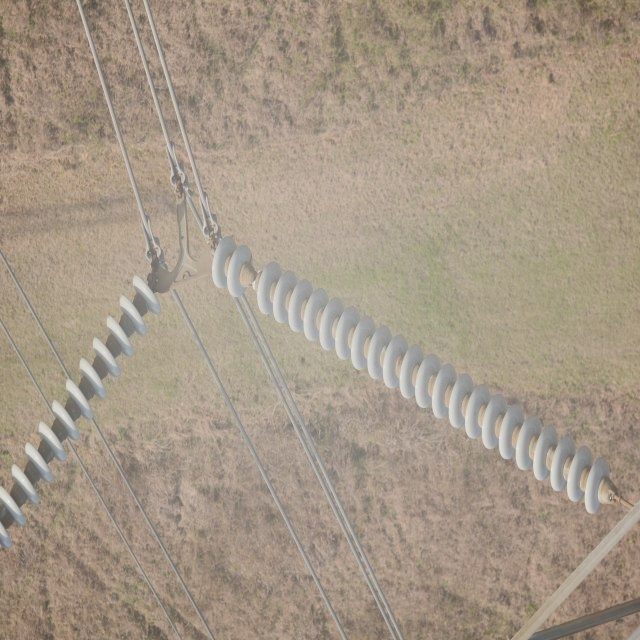insulator: (213, 236, 606, 512), (0, 274, 161, 545)
